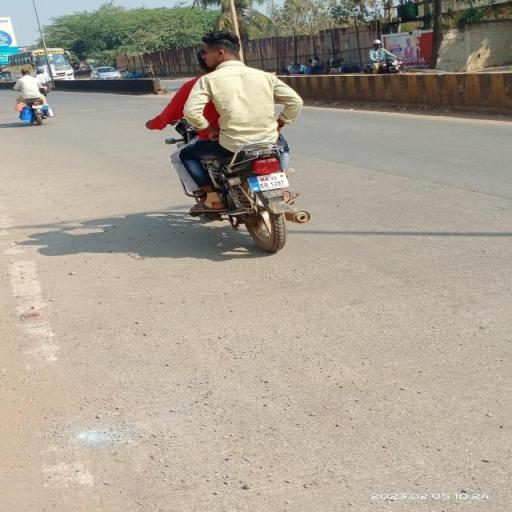bike: (146, 30, 324, 259)
numberplate: (247, 168, 288, 194)
withouthelmet: (204, 34, 237, 62)
